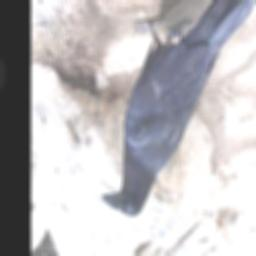Crow: (99, 0, 254, 220)
